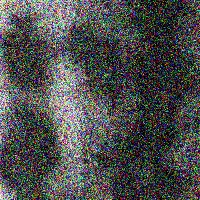patches: (123, 0, 200, 159), (102, 122, 186, 199), (58, 24, 128, 109), (2, 109, 67, 200), (0, 17, 46, 95)
